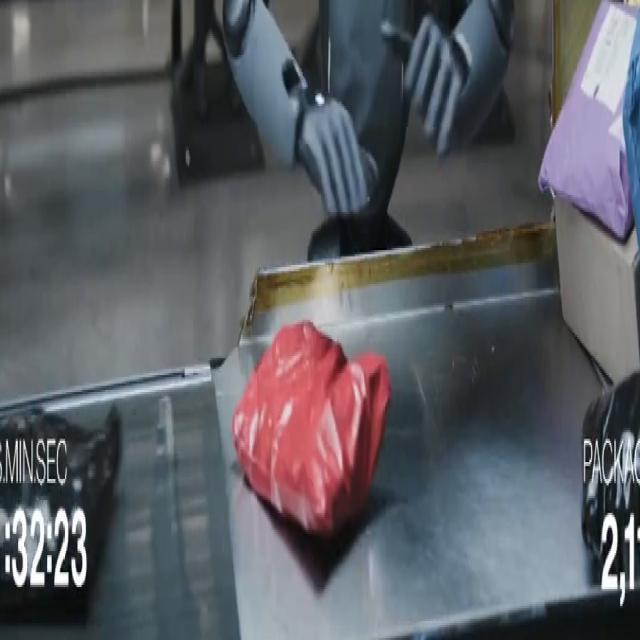package: (232, 323, 390, 536), (0, 410, 121, 616), (539, 0, 637, 239), (555, 200, 639, 381), (582, 373, 639, 584), (623, 24, 639, 237)
